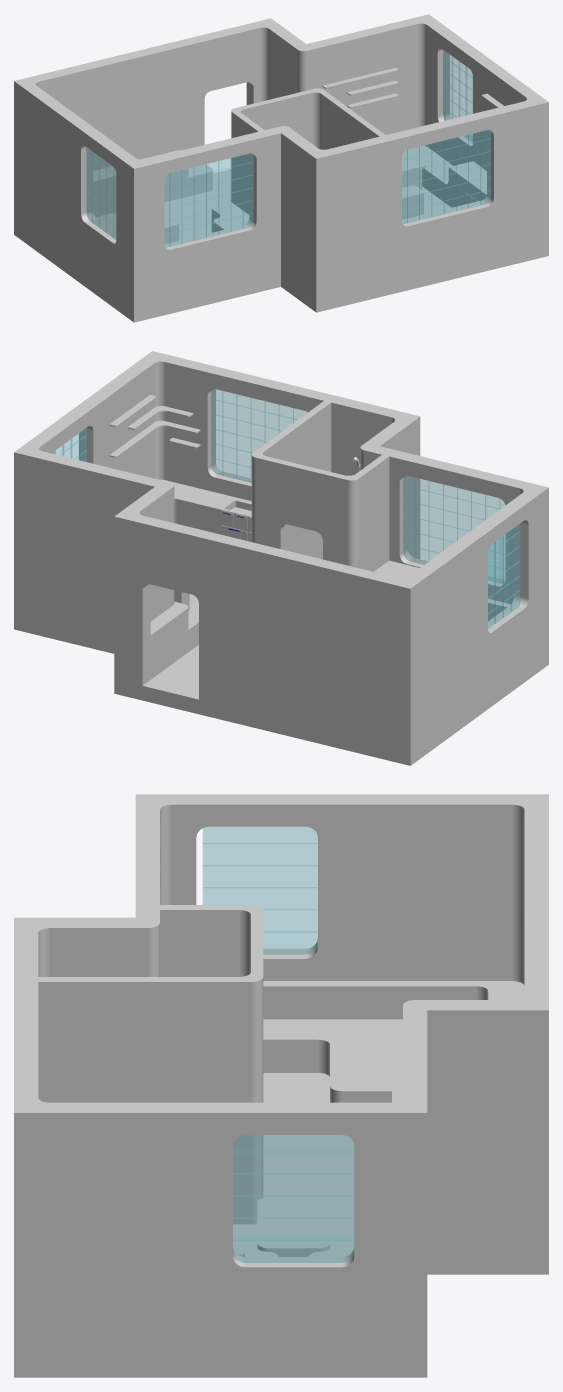
Rendered from memory typeC OptionA.glb.
3 views of the same model, one above another, from view 1: azimuth 30°, elevation 25°; view 2: azimuth 150°, elevation 25°; view 3: azimuth 270°, elevation 25° (orthographic). The views are drawn at different scales.
Parts seen in each view (by area): view 1: 卧室墙, 厕所墙, 客厅墙, 厨房墙, Glass, 卧室床15MM 软包边-皮质, 厨房橱柜, 客厅沙发（软）, 卧室架子, 客厅架子, 厨房餐桌, 卧室床（软） (+3 smaller); view 2: 卧室墙, 客厅墙, 厕所墙, 厨房墙, Glass, 厨房橱柜, 客厅柜子, 厨房架子, 厨房柜门; view 3: 客厅墙, 厨房墙, 卧室墙, 厕所墙, Glass, 卧室床（软）, 卧室床15MM 软包边-皮质, 厨房餐桌, 卧室床（硬）.
Boxes of the visible parts, x1,y1,x2,y2 form: 卧室墙: (14, 42, 265, 322); 厕所墙: (231, 88, 392, 312); 客厅墙: (173, 14, 484, 210); 厨房墙: (386, 55, 548, 293); Glass: (86, 50, 490, 247); 卧室床15MM 软包边-皮质: (93, 150, 188, 216); 厨房橱柜: (402, 161, 486, 220); 客厅沙发（软）: (406, 145, 452, 191); 卧室架子: (211, 201, 249, 232); 客厅架子: (322, 67, 398, 108); 厨房餐桌: (402, 150, 426, 189); 卧室床（软）: (95, 212, 178, 233); 卧室墙: (227, 450, 548, 765); 客厅墙: (14, 404, 234, 720); 厕所墙: (251, 395, 420, 571); 厨房墙: (79, 351, 331, 609); Glass: (54, 389, 520, 628); 厨房橱柜: (160, 479, 251, 541); 客厅柜子: (150, 601, 188, 679); 厨房架子: (109, 394, 200, 457); 厨房柜门: (220, 510, 251, 541); 客厅墙: (233, 928, 548, 1377); 厨房墙: (14, 982, 263, 1377); 卧室墙: (135, 794, 548, 1170); 厕所墙: (14, 905, 263, 1224); Glass: (202, 827, 354, 1262); 卧室床（软）: (263, 1019, 402, 1101); 卧室床15MM 软包边-皮质: (263, 981, 524, 1019); 厨房餐桌: (257, 1197, 329, 1256); 卧室床（硬）: (263, 1050, 391, 1102).
Bounding box in the file's own units: 9.3 × 3.6 × 6.6.
